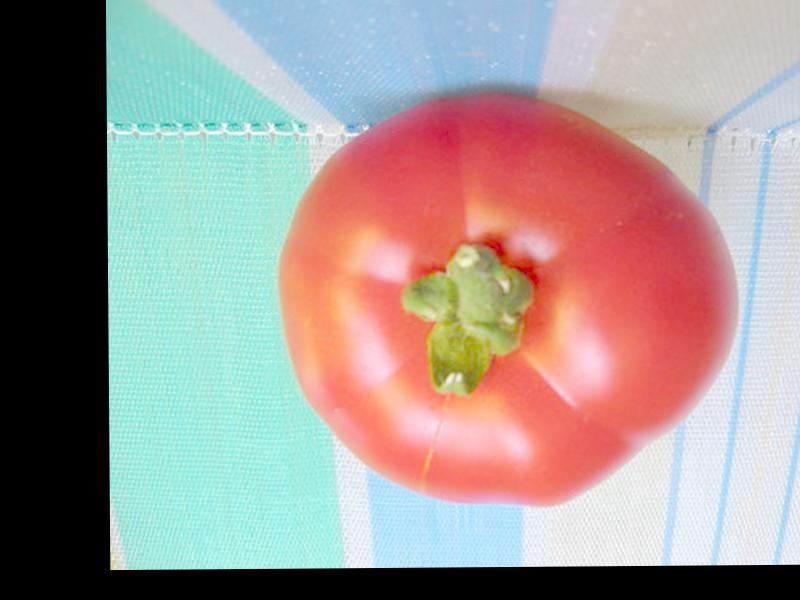Tomato: (277, 89, 736, 509)
